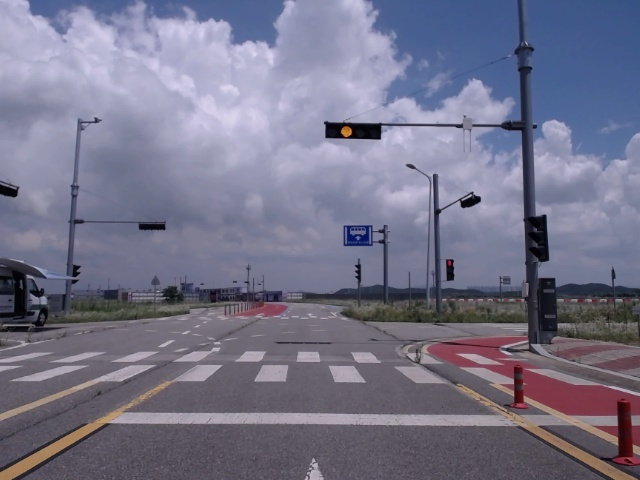orange_4: (326, 123, 381, 139)
